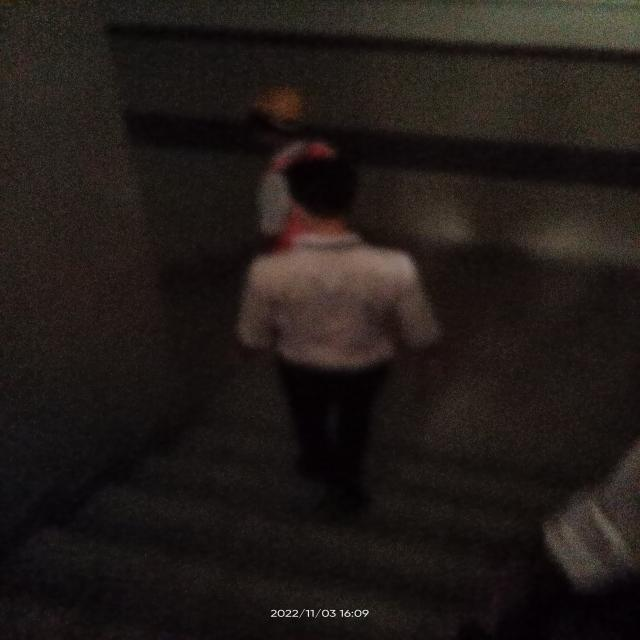unsafe: (241, 154, 446, 530)
